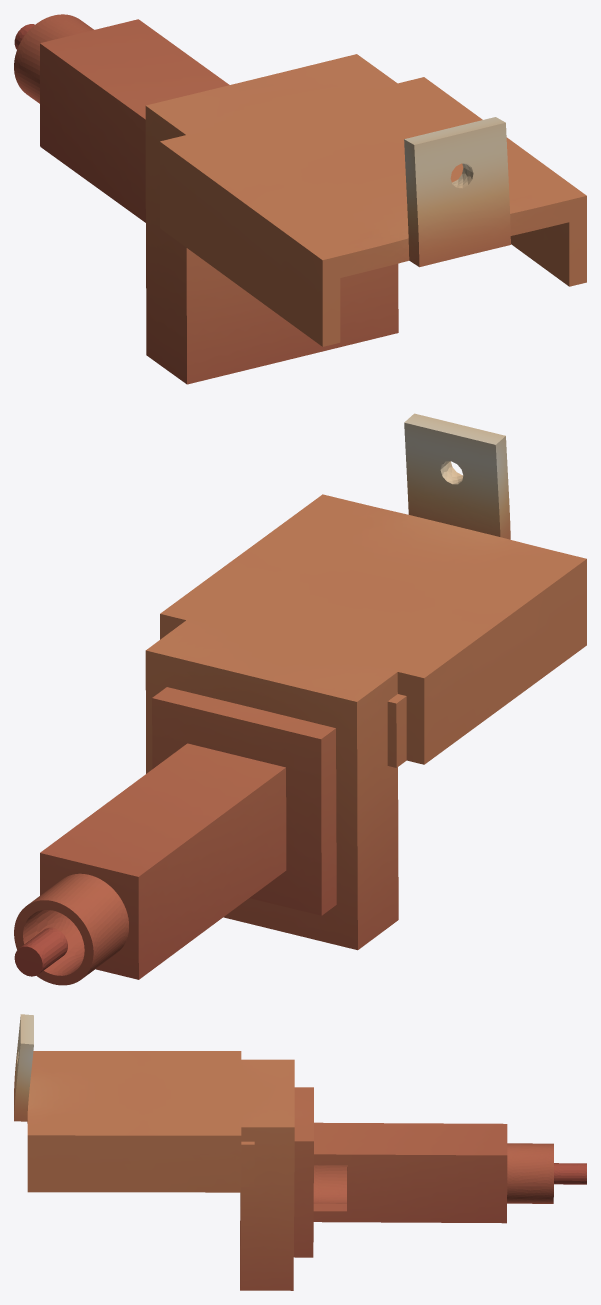
File: z_both_Fz_u.glb
3 views of the same model, one above another, from view 1: azimuth 30°, elevation 25°; view 2: azimuth 150°, elevation 25°; view 3: azimuth 270°, elevation 25° (orthographic). The views are drawn at different scales.
Parts seen in each view (by area): view 1: geometry_0; view 2: geometry_0; view 3: geometry_0.
Part boxes in pixels (bbox=[...]): geometry_0: bbox=[14, 14, 586, 384]; geometry_0: bbox=[14, 413, 586, 985]; geometry_0: bbox=[14, 1014, 586, 1290].
Size of the model in its own units: 150 by 189 by 429.
